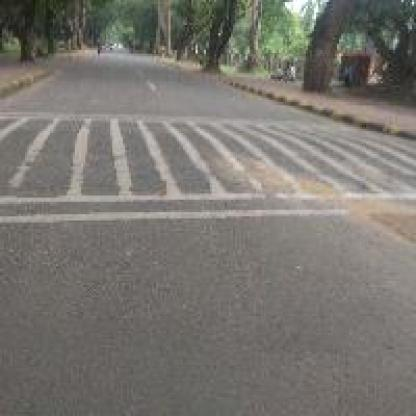Speed Bump: (0, 108, 414, 225)
